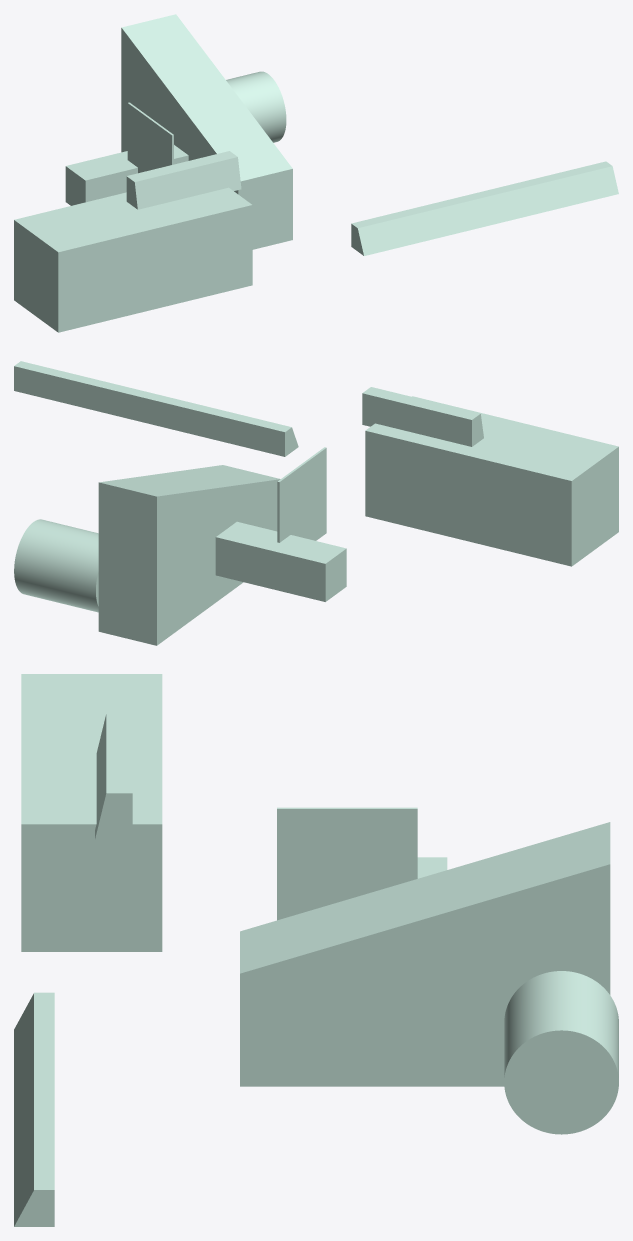
The picture shows the model from 3 angles, top to bottom: view 1: azimuth 30°, elevation 25°; view 2: azimuth 150°, elevation 25°; view 3: azimuth 270°, elevation 25°; orthographic projection. The views are drawn at different scales.
Visible parts, largest first — view 1: Renderer Node; view 2: Renderer Node; view 3: Renderer Node.
Part boxes in pixels (x1,y1,x2,y2): Renderer Node: (14, 14, 618, 332); Renderer Node: (14, 361, 618, 645); Renderer Node: (14, 674, 618, 1226).
Bounding box in the file's own units: 2.16 × 0.5181 × 1.28.
